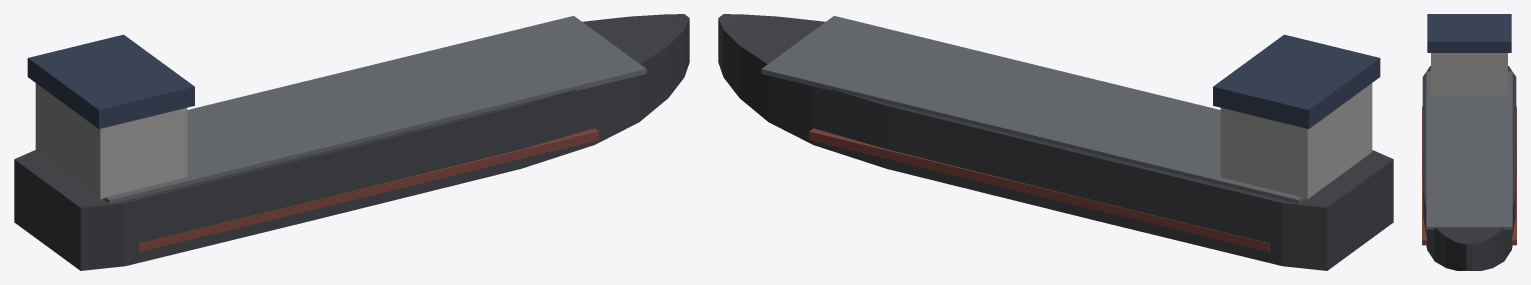
The model's file is port_ship_tanker_medium_lvl1.glb.
3 renders of one model, left to right at view 1: azimuth 30°, elevation 25°; view 2: azimuth 150°, elevation 25°; view 3: azimuth 270°, elevation 25°, orthographic. The views are drawn at different scales.
Parts seen in each view (by area): view 1: port_ship_tanker_medium; view 2: port_ship_tanker_medium; view 3: port_ship_tanker_medium.
Part boxes in pixels (x1,y1,x2,y2): port_ship_tanker_medium: (14,14,689,270); port_ship_tanker_medium: (718,14,1393,270); port_ship_tanker_medium: (1422,14,1516,270).
Size of the model in its own units: 0.3836 by 0.091 by 0.083.
